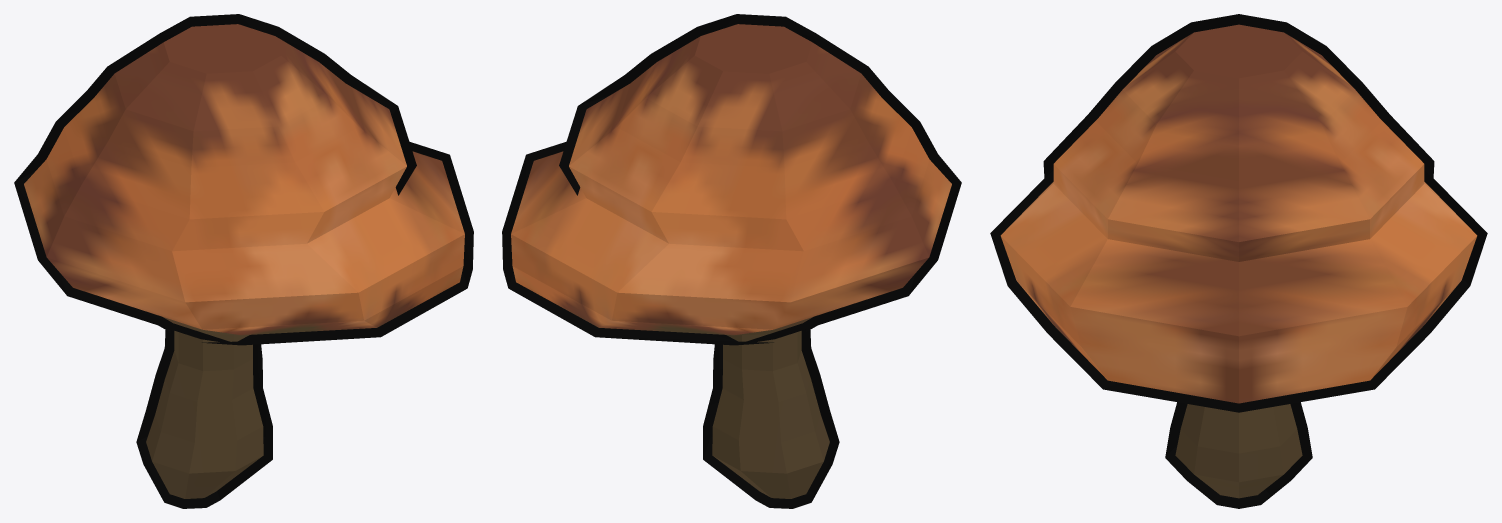
The model's file is Plant_Plant_TreeGauranlen_Things_Plant_GauranlenTree_Immature_TreeGauranlenmmature.glb.
The picture shows the model from 3 angles, left to right: view 1: azimuth 30°, elevation 25°; view 2: azimuth 150°, elevation 25°; view 3: azimuth 270°, elevation 25°; orthographic projection. The views are drawn at different scales.
Parts seen in each view (by area): view 1: Body, Outline; view 2: Body, Outline; view 3: Body, Outline.
Part boxes in pixels (left/top/right/bottom): Body: left=24, top=24, right=464, bottom=498; Outline: left=14, top=14, right=473, bottom=508; Body: left=511, top=24, right=951, bottom=498; Outline: left=502, top=14, right=961, bottom=508; Body: left=1000, top=24, right=1477, bottom=498; Outline: left=990, top=14, right=1487, bottom=508.
Size of the model in its own units: 0.3672 by 0.3828 by 0.3668.
Materials: 2 (1 with a texture image).
